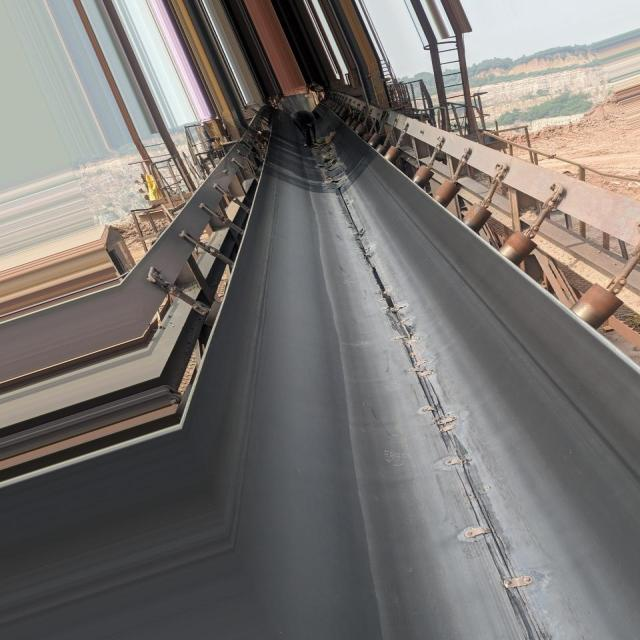Human: (284, 103, 323, 136)
Roller: (337, 98, 629, 325)
Tear: (332, 182, 398, 300)
patch work: (384, 295, 542, 623), (301, 137, 345, 176)
